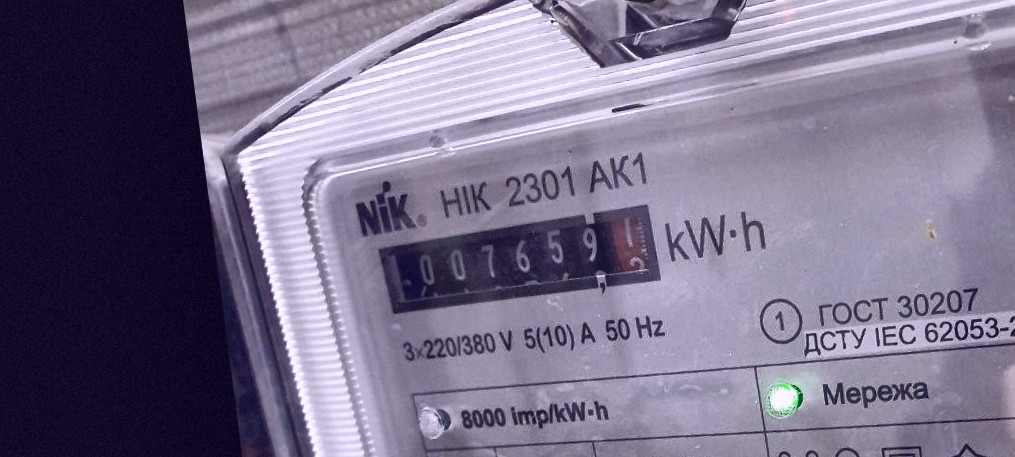0: (445, 243, 470, 285), (414, 249, 439, 289)
1: (615, 212, 639, 251)
5: (541, 225, 568, 268)
6: (508, 234, 535, 277)
7: (476, 239, 502, 281)
9: (577, 223, 603, 265)
screen: (367, 197, 668, 326)
